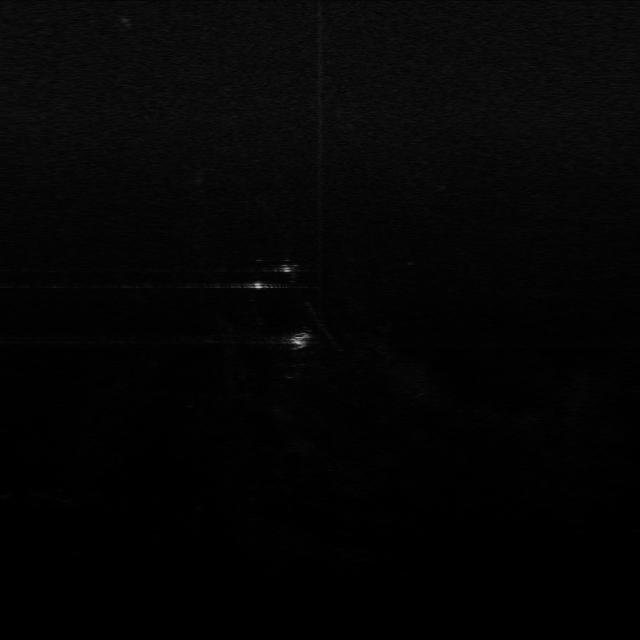rov: (283, 327, 319, 352)
